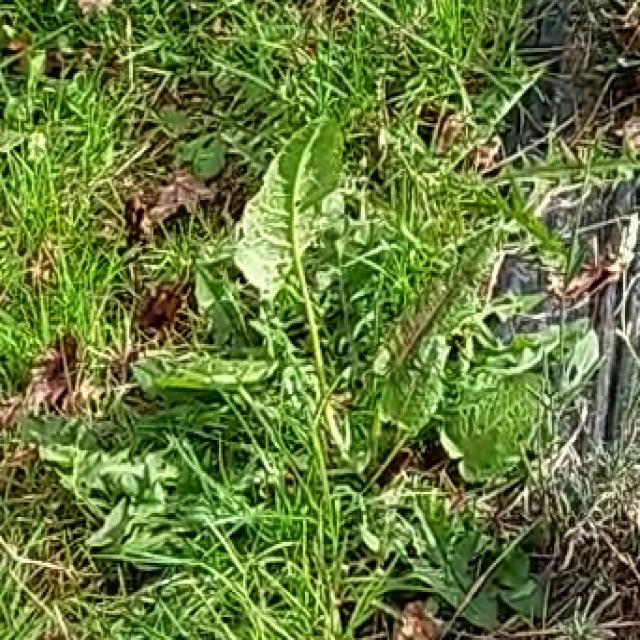organic waste: (165, 90, 552, 500)
